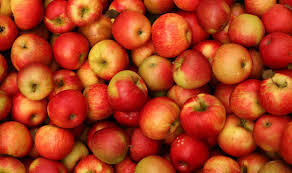apple: (149, 14, 193, 61), (184, 93, 225, 131), (142, 99, 184, 136), (109, 71, 152, 107), (214, 44, 256, 80), (176, 48, 213, 87), (117, 9, 155, 46), (94, 40, 133, 76), (231, 76, 268, 113), (9, 36, 51, 67), (13, 64, 52, 97), (171, 135, 210, 168), (36, 126, 75, 157), (93, 131, 133, 161), (229, 12, 262, 48), (49, 91, 87, 122), (58, 34, 93, 67), (3, 122, 32, 155), (11, 1, 43, 30)
